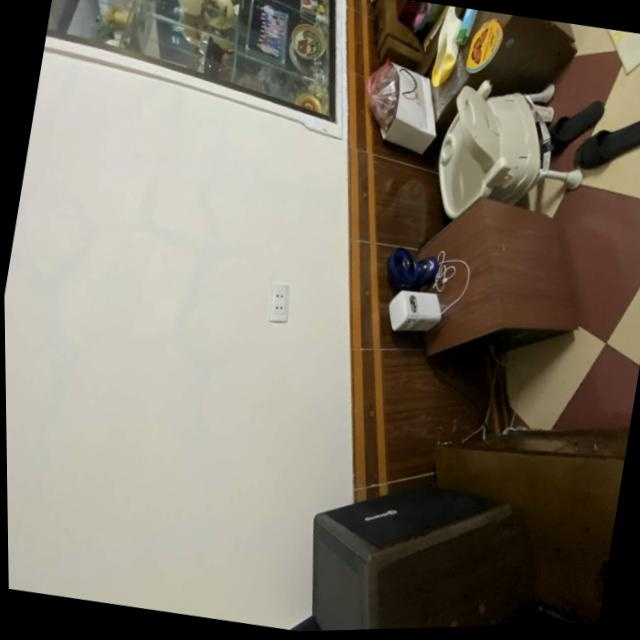outlet: (265, 280, 293, 324)
